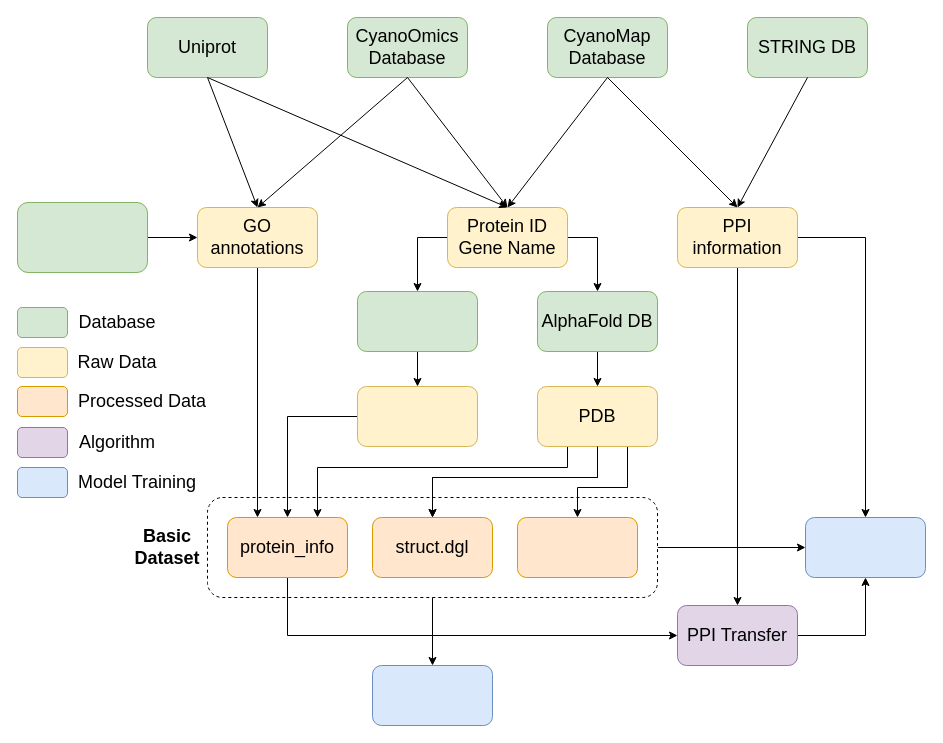
This 943x743 diagram has some shape labels left out. Here are the shapes that lost their labels. From the top down, the box of each, then its label:
(16, 202, 148, 272): GeneOntology go-basic.obo
(356, 290, 478, 352): InterPro
(356, 386, 478, 446): domain
(516, 516, 638, 578): ESM embedding
(804, 516, 926, 578): PPI Model Training
(372, 664, 492, 726): GO Model Training
